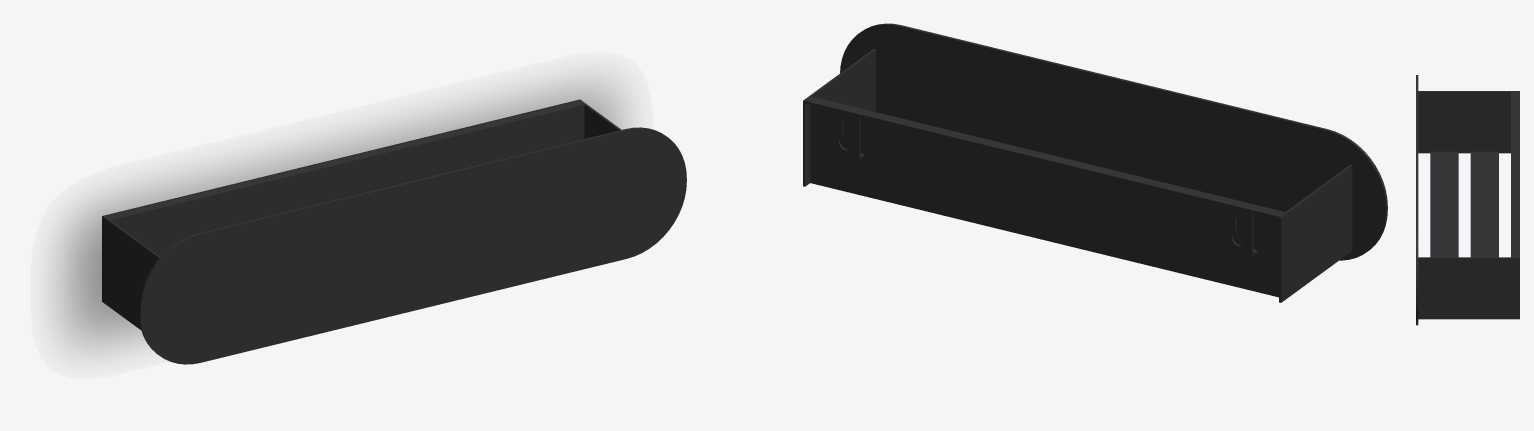
Rendered from round-mono.729fd526a3.ar.glb.
The picture shows the model from 3 angles, left to right: view 1: azimuth 30°, elevation 25°; view 2: azimuth 150°, elevation 25°; view 3: azimuth 270°, elevation 25°; orthographic projection. The views are drawn at different scales.
Parts seen in each view (by area): view 1: NAUO1, object 2; view 2: NAUO1; view 3: NAUO1.
Boxes of the visible parts, x1,y1,x2,y2 form: NAUO1: [102, 99, 686, 364]; object 2: [57, 82, 626, 348]; NAUO1: [803, 23, 1387, 302]; NAUO1: [1416, 75, 1519, 325].
Size of the model in its own units: 0.48 by 0.17 by 0.092.
Materials: 2 (1 with a texture image).
